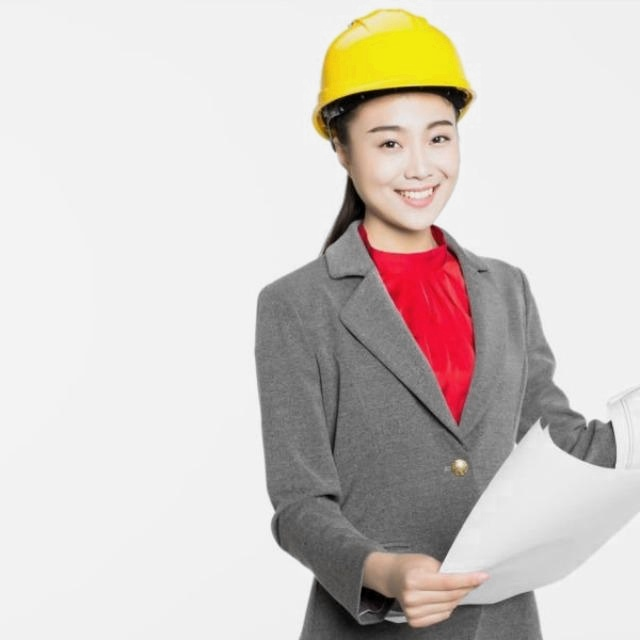Con_Casco: (314, 10, 477, 227)
Sin_Chaleco: (252, 240, 535, 608)
